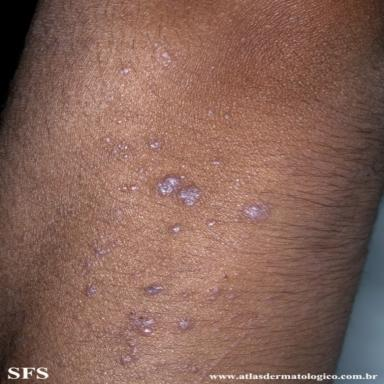lichen: (119, 312, 156, 368), (156, 174, 203, 206), (242, 199, 271, 223), (92, 240, 123, 255), (111, 141, 134, 161), (206, 285, 224, 301), (178, 364, 199, 375), (145, 284, 164, 296), (177, 318, 193, 331), (149, 138, 163, 150), (84, 285, 97, 297), (169, 223, 183, 234), (118, 185, 139, 192), (206, 220, 223, 228), (161, 52, 171, 65), (120, 67, 132, 74), (100, 137, 111, 143)
